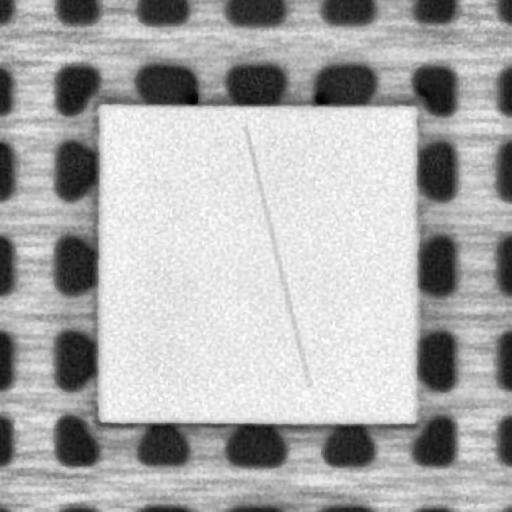DIE_CRACK: (240, 123, 310, 388)
